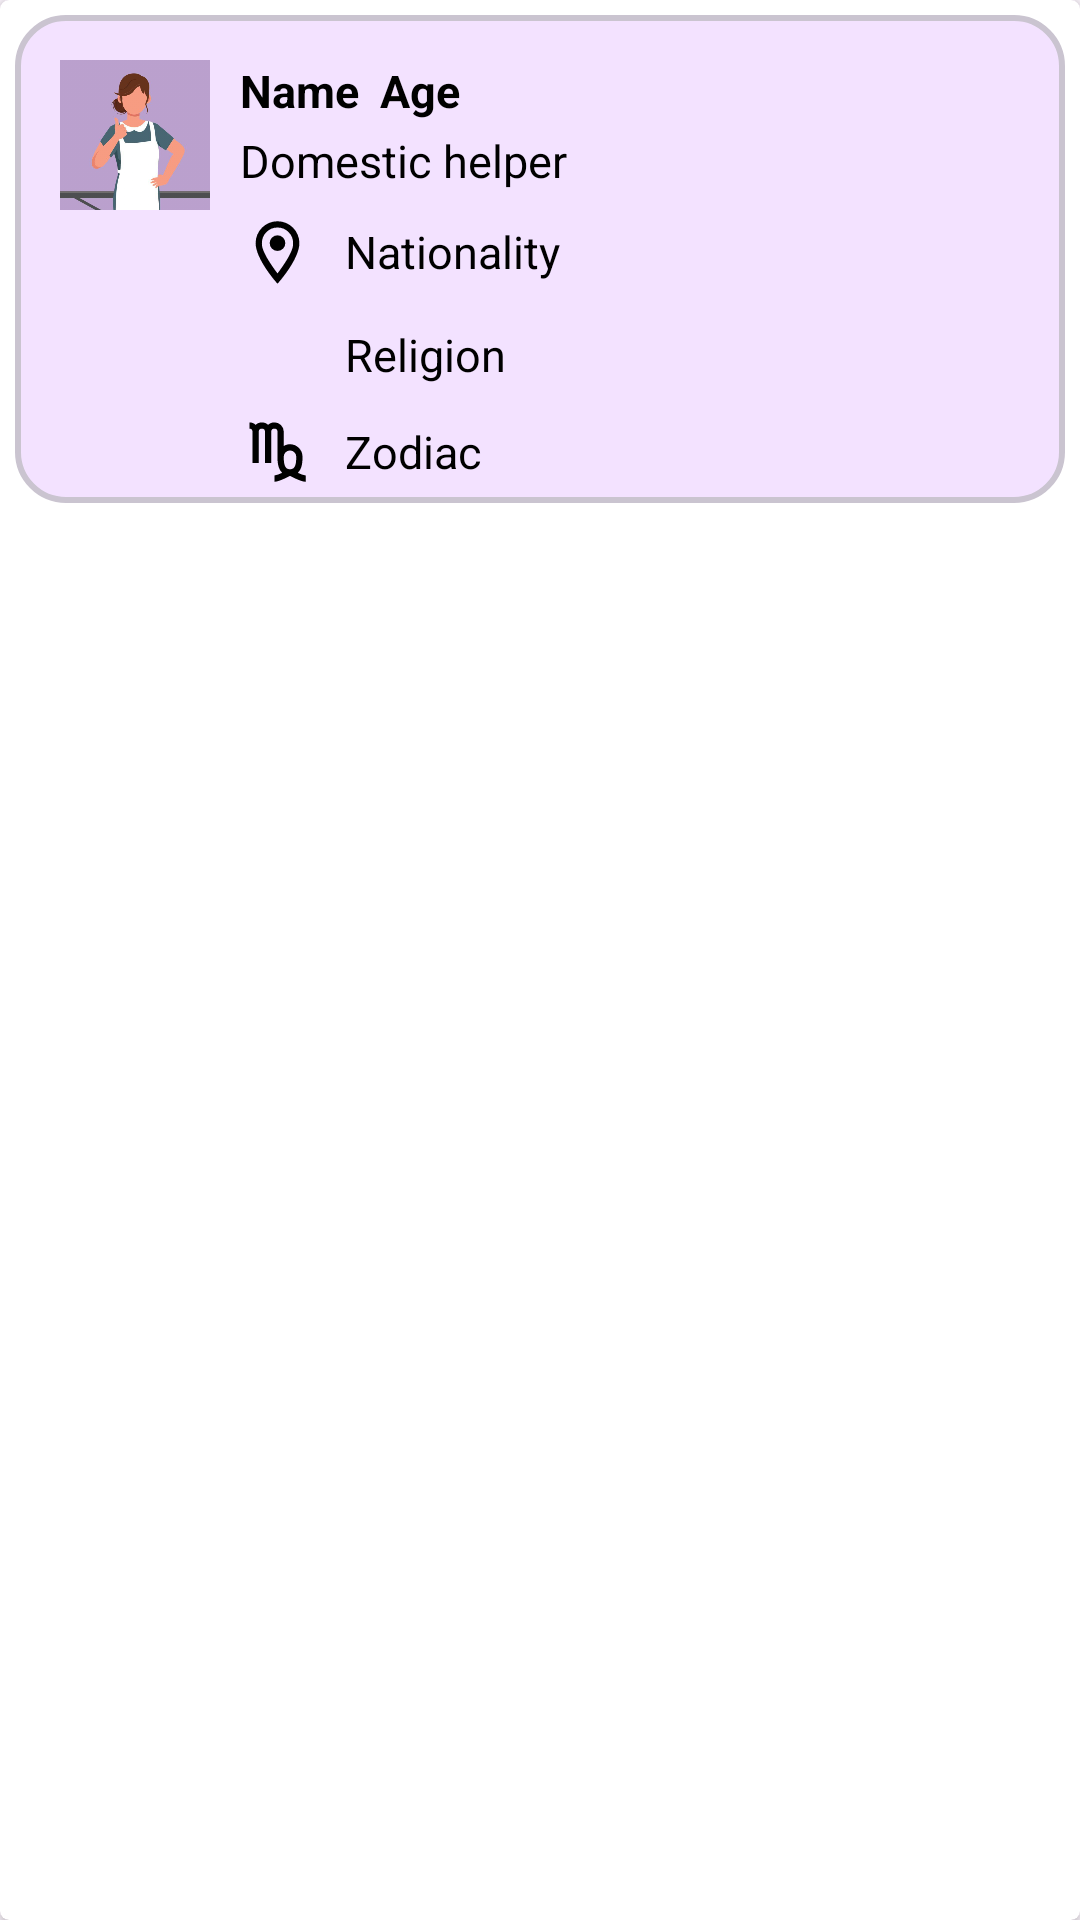

Locate icon controls on the screen. Image size 1080 x 1920, boxes as (x1, y1, x2, y2).
location: (255, 221, 300, 284)
